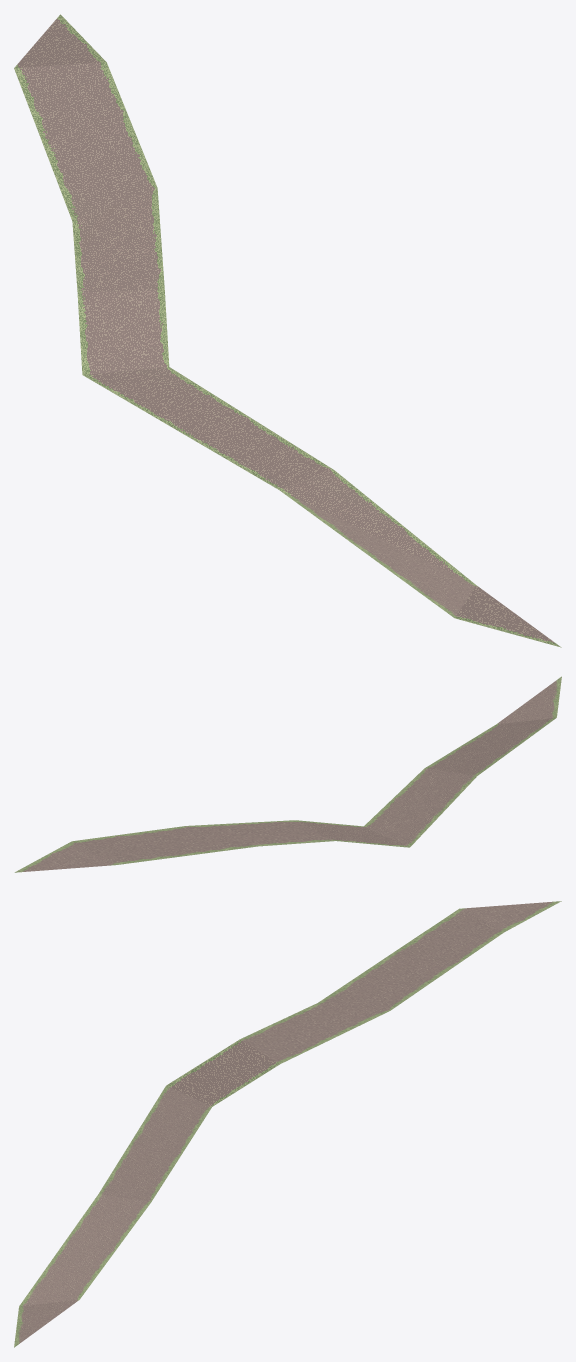
The model's file is kd_connection_town-ground_surface_5_46.glb.
3 renders of one model, top to bottom at view 1: azimuth 30°, elevation 25°; view 2: azimuth 150°, elevation 25°; view 3: azimuth 330°, elevation 25°, orthographic. The views are drawn at different scales.
Visible parts, largest first — view 1: kd_connection_town-ground_surface_5_46; view 2: kd_connection_town-ground_surface_5_46; view 3: kd_connection_town-ground_surface_5_46.
Boxes of the visible parts, x1,y1,x2,y2 form: kd_connection_town-ground_surface_5_46: [14, 14, 561, 647]; kd_connection_town-ground_surface_5_46: [14, 676, 561, 872]; kd_connection_town-ground_surface_5_46: [14, 901, 561, 1347].
Bounding box in the file's own units: 4.44 × 2.8 × 18.92.
Materials: 1 (1 with a texture image).
